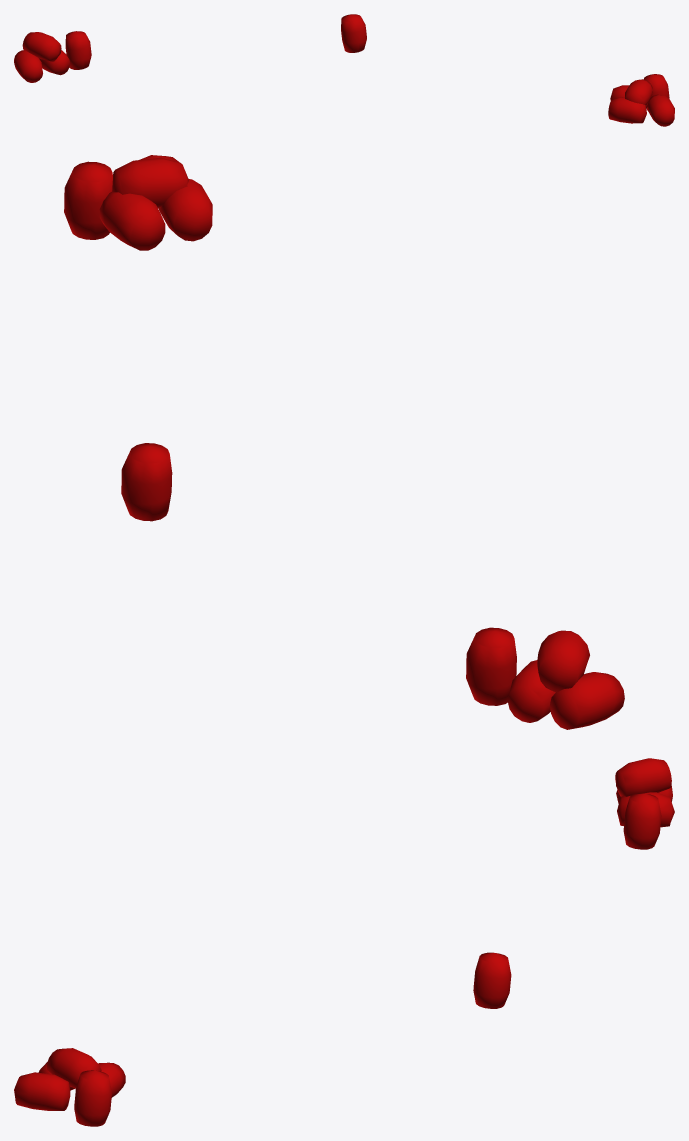
Rendered from cotton_bundles.glb.
3 views of the same model, one above another, from view 1: azimuth 30°, elevation 25°; view 2: azimuth 150°, elevation 25°; view 3: azimuth 270°, elevation 25° (orthographic). The views are drawn at different scales.
Visible parts, largest first — view 1: MODEL_cotton_bundles; view 2: MODEL_cotton_bundles; view 3: MODEL_cotton_bundles.
Part boxes in pixels (x1=…): MODEL_cotton_bundles: x1=14, y1=14, x2=674, y2=126; MODEL_cotton_bundles: x1=64, y1=155, x2=624, y2=729; MODEL_cotton_bundles: x1=14, y1=758, x2=674, y2=1126.
Size of the model in its own units: 3.66 by 0.316 by 3.11.
